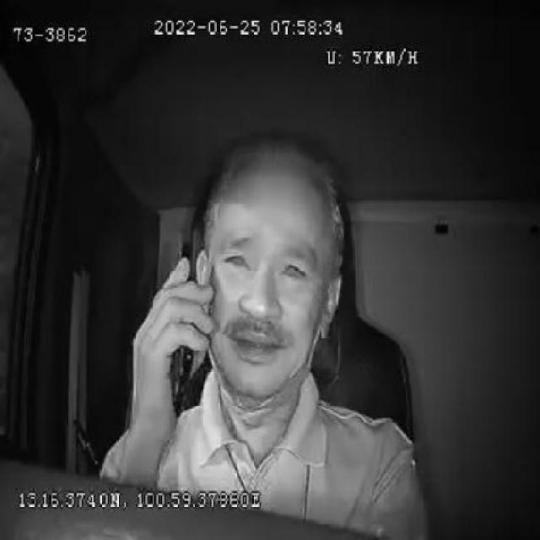phone: (166, 238, 197, 422)
